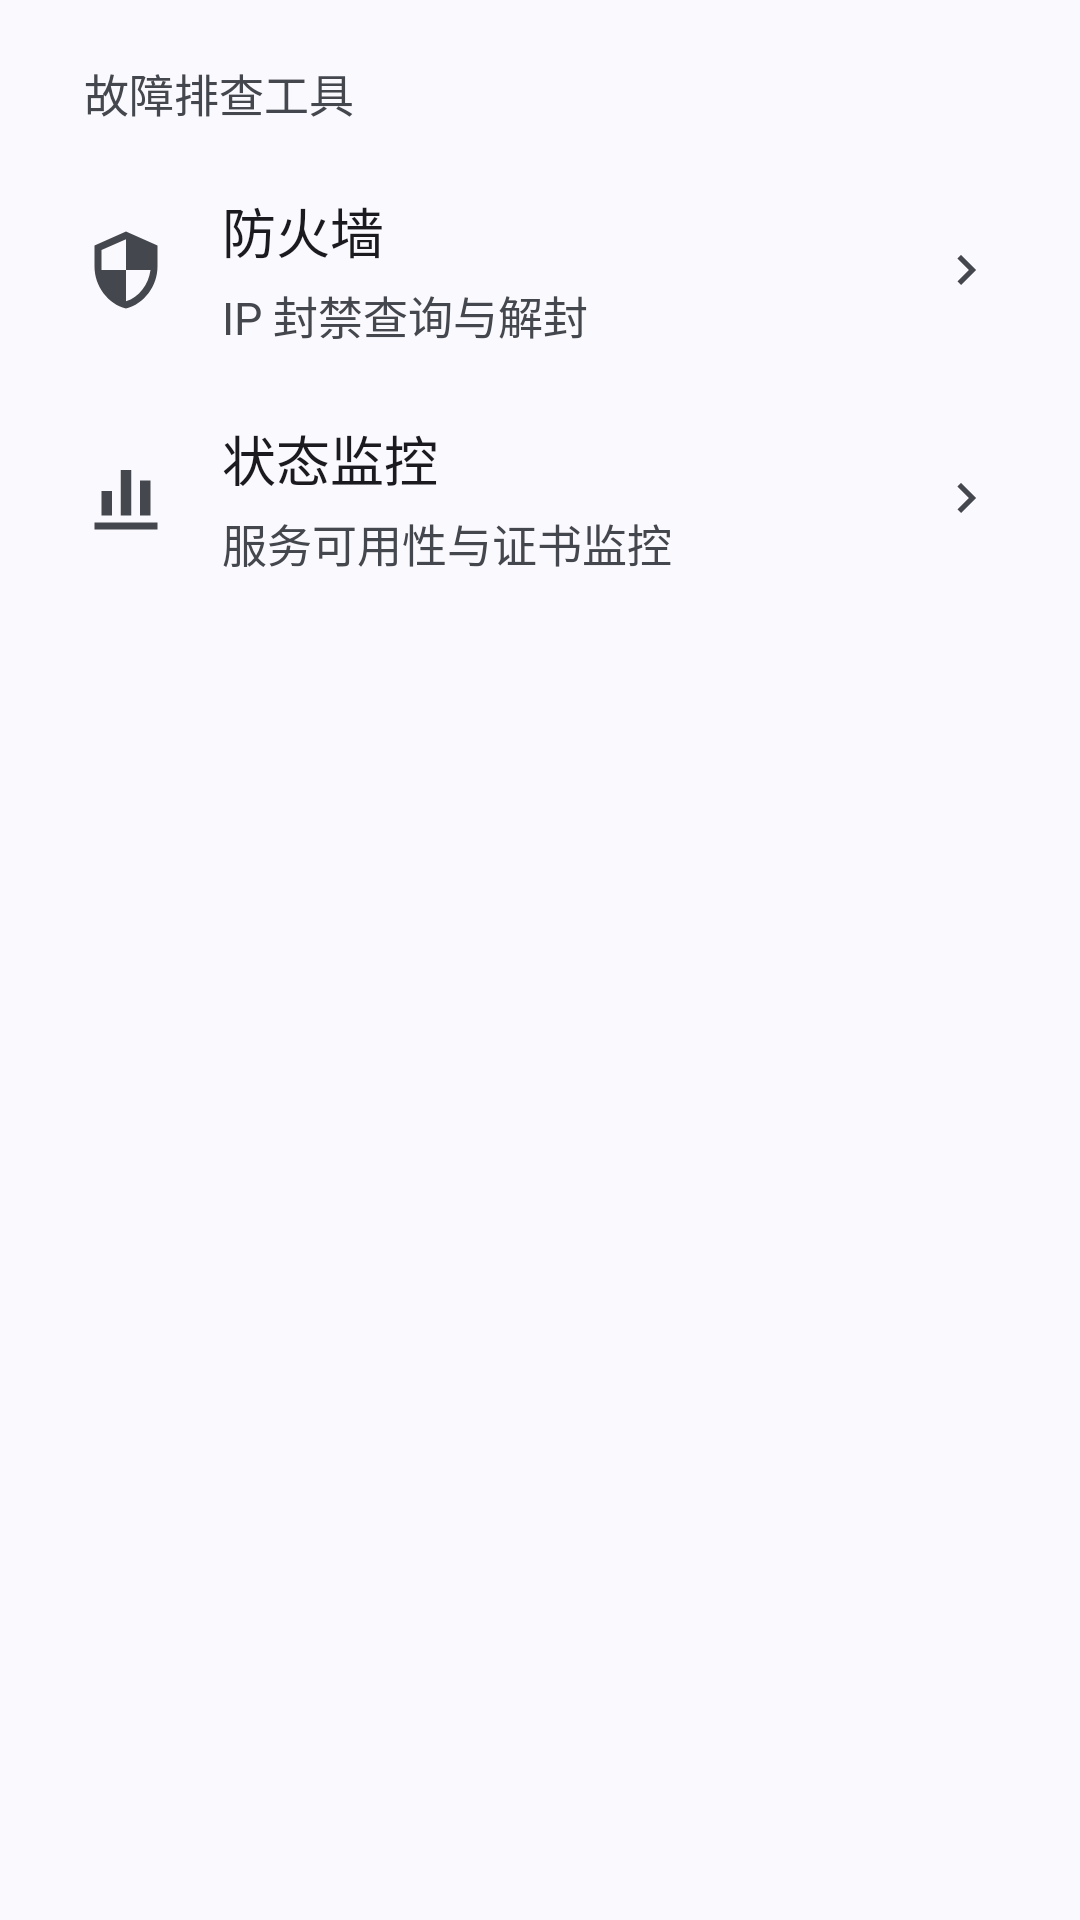

Screen size 1080px×1920px. Icon name, then its center in pixels as [x,y]:
进入: [966,270], [966,498]
